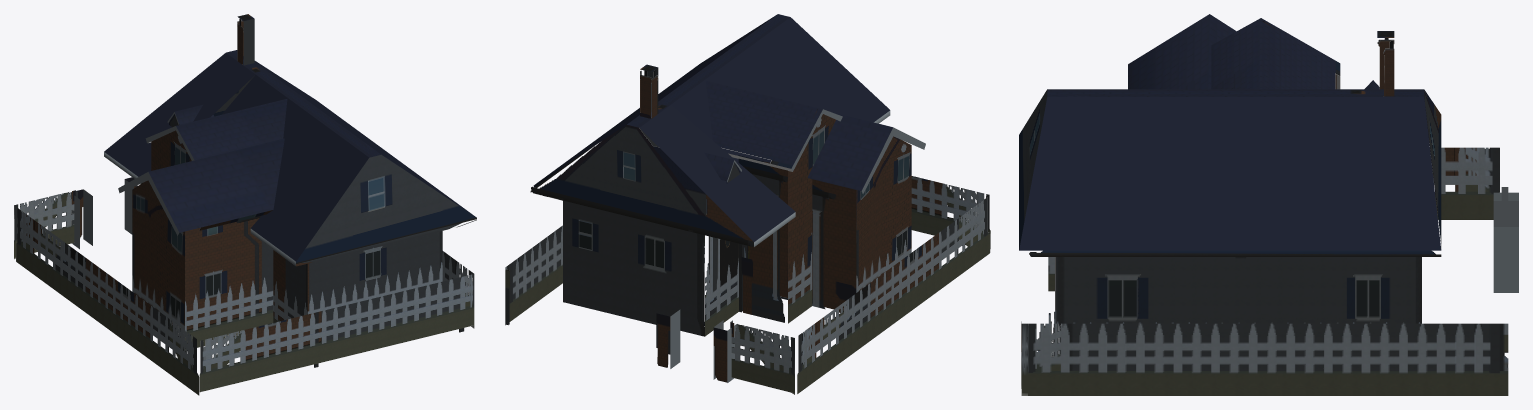
The model's file is house8_low.fbx.
The picture shows the model from 3 angles, left to right: view 1: azimuth 30°, elevation 25°; view 2: azimuth 150°, elevation 25°; view 3: azimuth 270°, elevation 25°; orthographic projection. The views are drawn at different scales.
Visible parts, largest first — view 1: front1; view 2: front1; view 3: front1.
Boxes of the visible parts, x1,y1,x2,y2 form: front1: (14,14,476,395); front1: (505,14,990,394); front1: (1019,14,1518,395).
Size of the model in its own units: 10.4 by 8.32 by 12.39.
